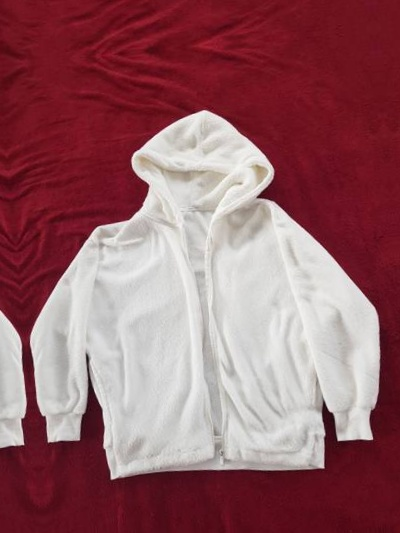Hoodie: (5, 81, 400, 506), (0, 118, 40, 533), (0, 0, 353, 13), (395, 42, 400, 467)
